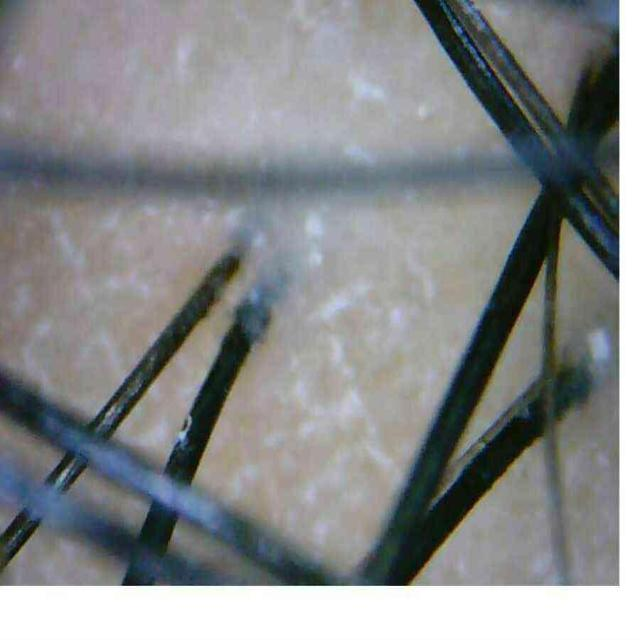d: (579, 320, 612, 358)
